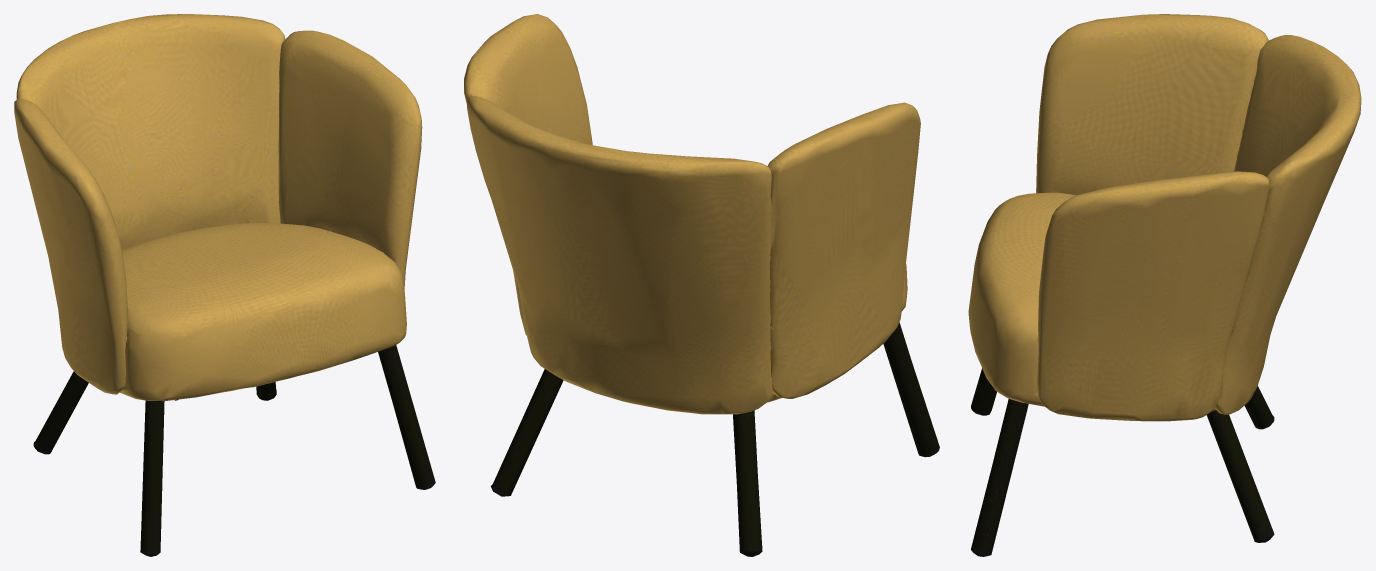
Rendered from 25 - HERRÅKRA Armchair - Diseröd dark yellow.glb.
The picture shows the model from 3 angles, left to right: view 1: azimuth 30°, elevation 25°; view 2: azimuth 150°, elevation 25°; view 3: azimuth 270°, elevation 25°; orthographic projection. The views are drawn at different scales.
Visible parts, largest first — view 1: model; view 2: model; view 3: model.
Part boxes in pixels (left/top/right/bottom): model: left=14, top=14, right=435, bottom=556; model: left=464, top=14, right=939, bottom=556; model: left=968, top=14, right=1361, bottom=556.
Size of the model in its own units: 0.7056 by 0.7249 by 0.6564.
Materials: 1 (1 with a texture image).
